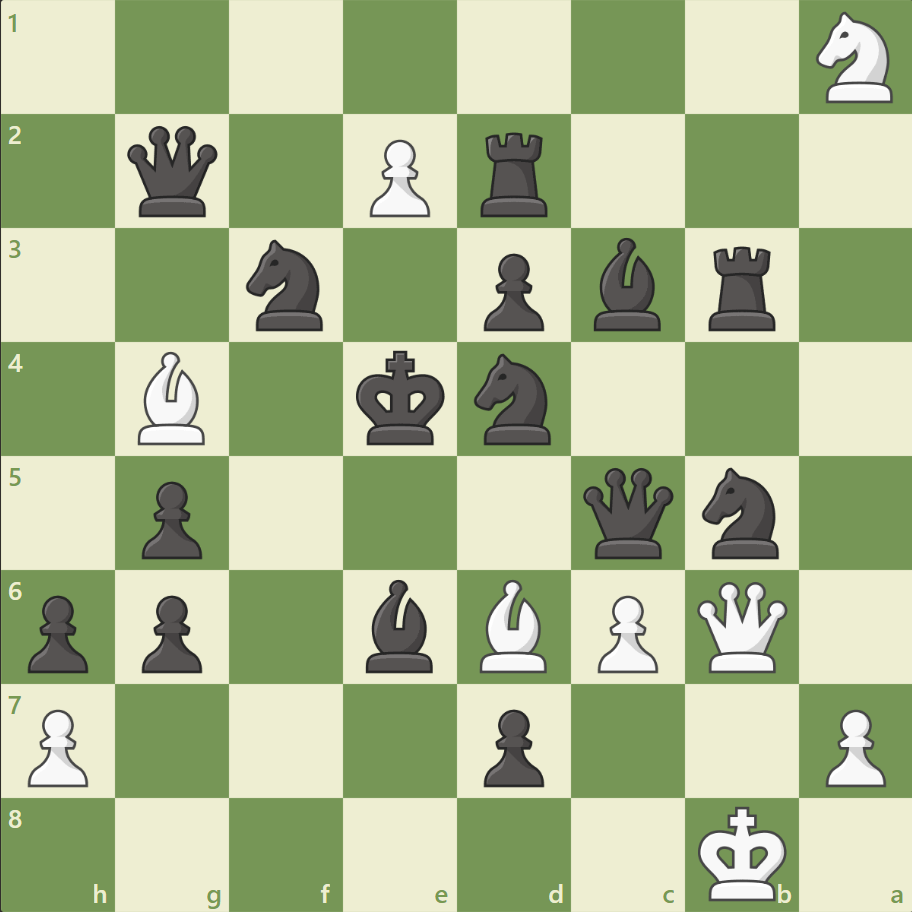B: (471, 574, 555, 676), (131, 347, 215, 449)
K: (692, 798, 792, 906)
N: (806, 7, 903, 110)
P: (20, 700, 95, 791), (815, 700, 889, 791), (588, 586, 662, 677), (361, 132, 435, 223)
Q: (691, 576, 790, 676)
b: (585, 233, 669, 336), (358, 574, 442, 676)
k: (351, 344, 451, 452)
n: (692, 461, 789, 564), (238, 234, 335, 337), (465, 348, 562, 450)
p: (474, 700, 549, 791), (133, 586, 208, 677), (20, 586, 95, 677), (133, 473, 208, 564), (474, 246, 549, 337)
q: (124, 122, 223, 222), (578, 463, 677, 562)
r: (700, 239, 783, 336), (473, 125, 556, 222)
